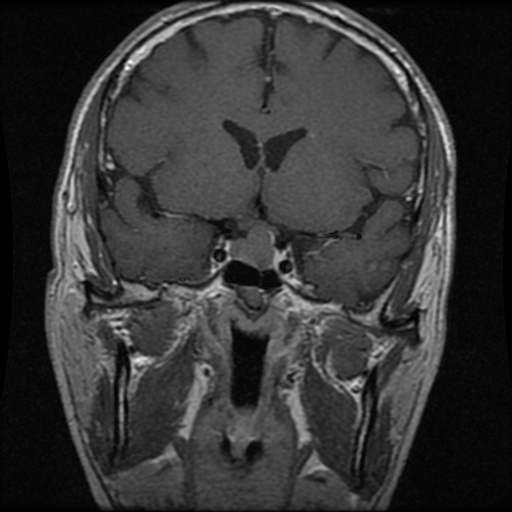pituitary: (225, 220, 278, 269)
